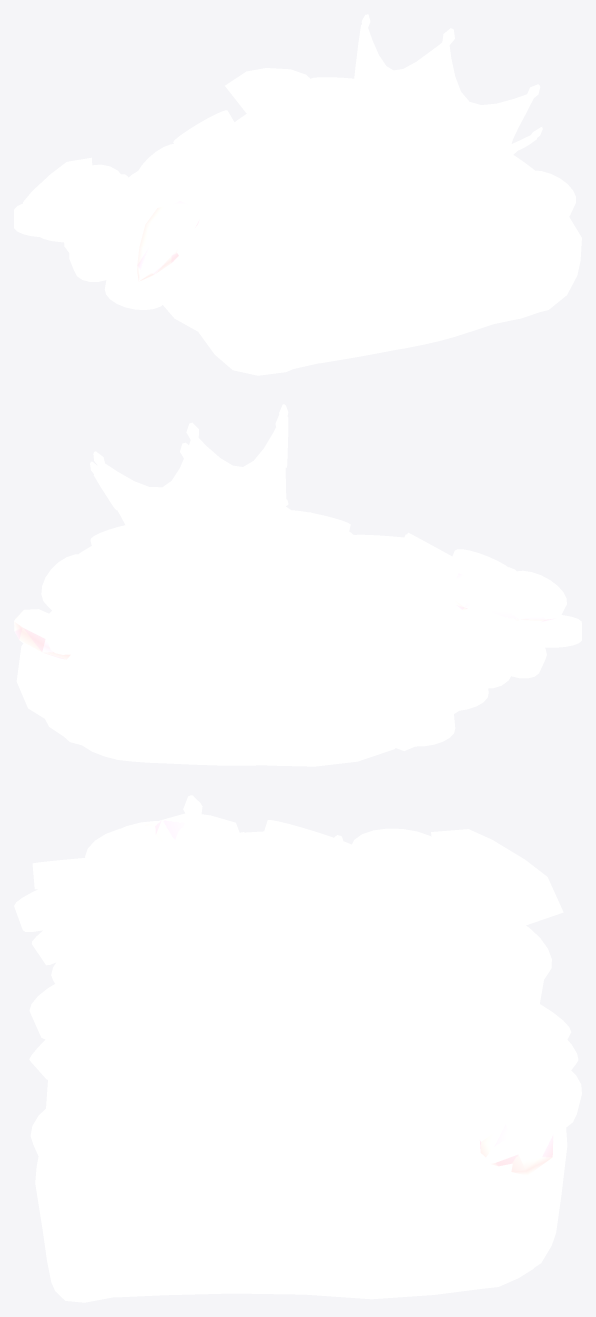
The model's file is treature3.gltf.
3 renders of one model, top to bottom at view 1: azimuth 30°, elevation 25°; view 2: azimuth 150°, elevation 25°; view 3: azimuth 270°, elevation 25°, orthographic. The views are drawn at different scales.
Parts seen in each view (by area): view 1: crown2, treasure3; view 2: crown2, treasure3; view 3: crown2, treasure3.
Part boxes in pixels (x1,y1,x2,y2): crown2: (14, 14, 575, 313); treasure3: (128, 102, 581, 375); crown2: (14, 404, 581, 759); treasure3: (16, 556, 478, 766); crown2: (14, 795, 581, 1191); treasure3: (35, 849, 567, 1302).
Bounding box in the file's own units: 97.32 × 53.96 × 68.44.
Materials: 1 (1 with a texture image).
